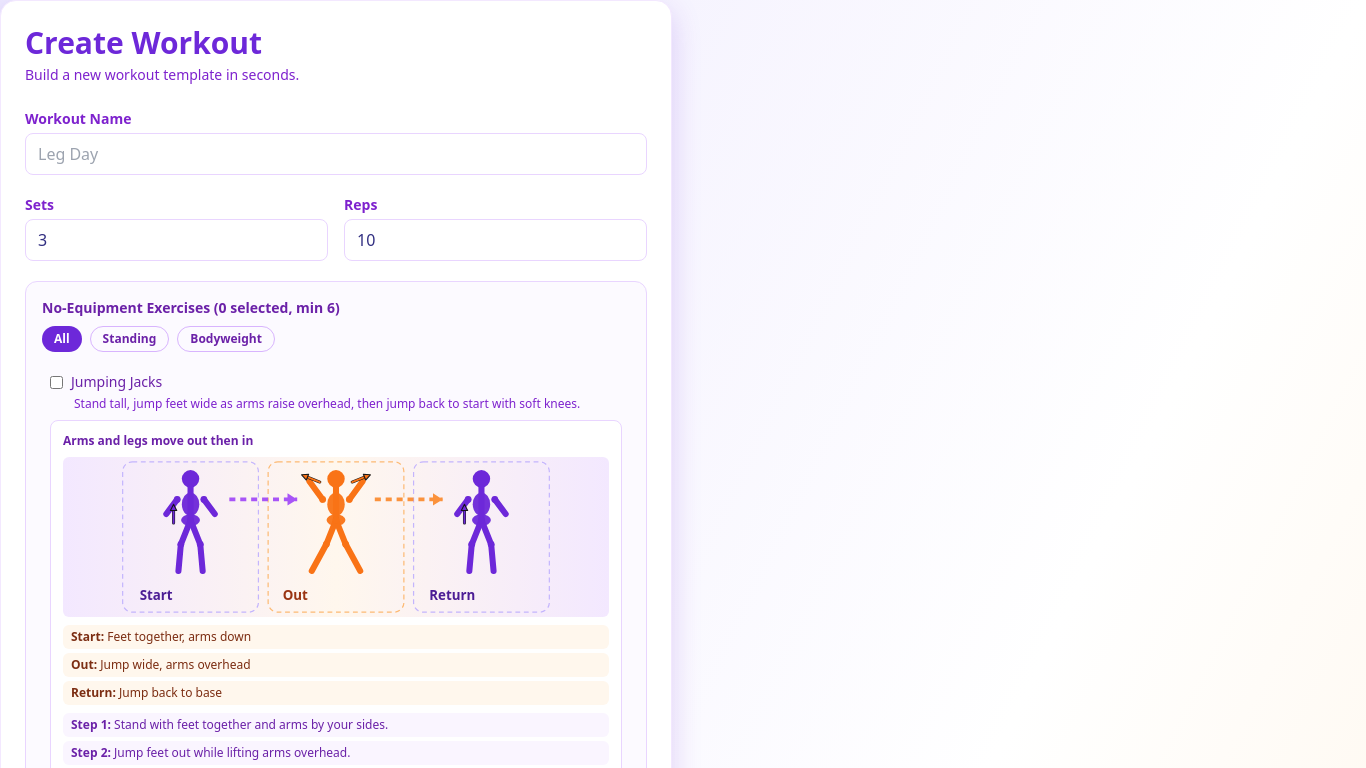
Test: WorkoutCreate page › filters to bodyweight exercises
Click the button "Bodyweight" at (226, 339), box [177, 326, 275, 352]
(page scrolled)
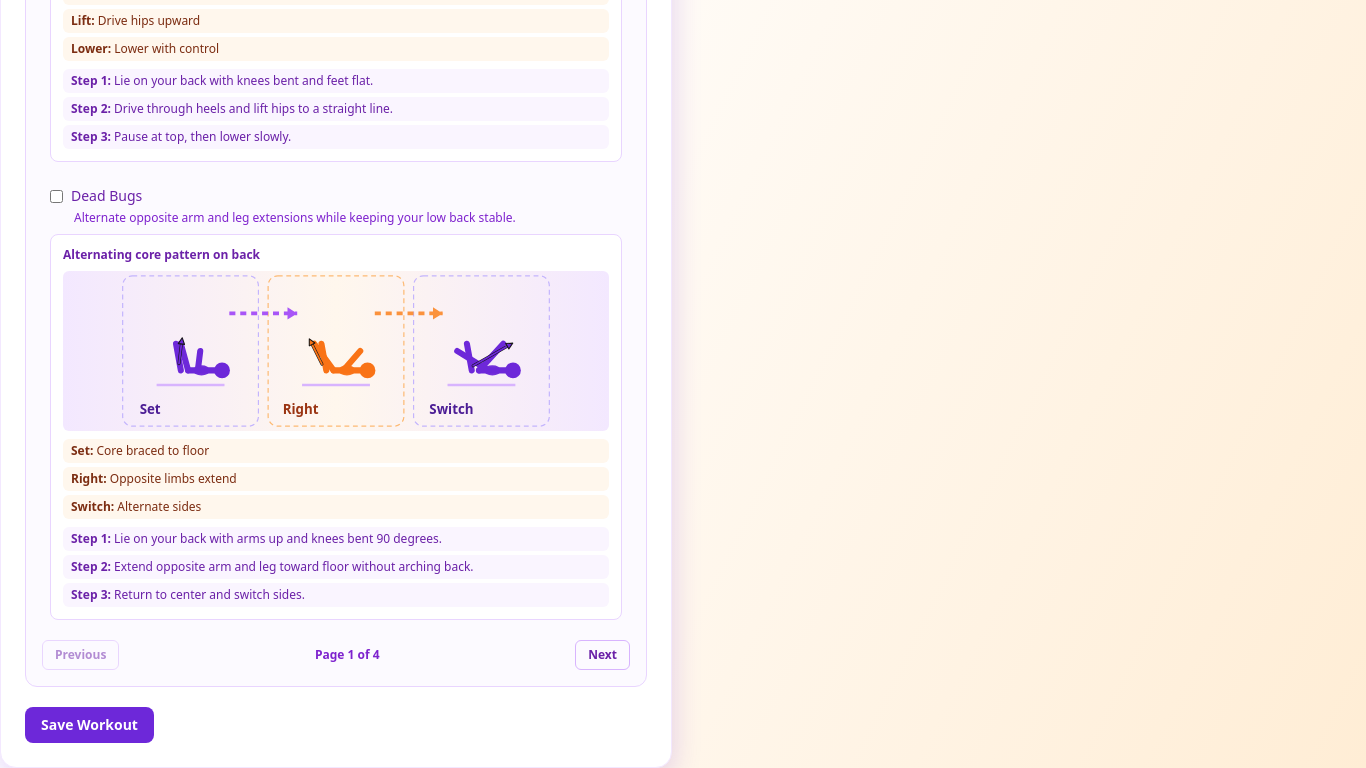
Expected: the text "Page 1 of 4" is shown, [315, 647, 380, 663]
Expected: the text "Jumping Jacks" is gone
